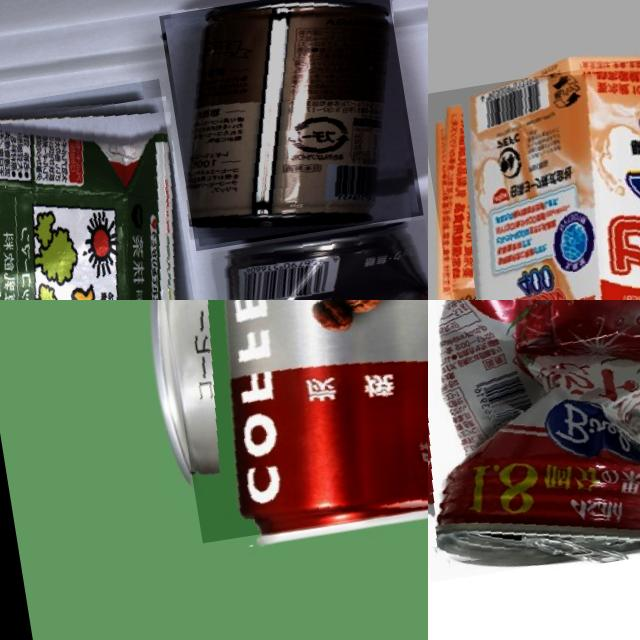Aluminium Foil: (428, 37, 640, 300), (0, 77, 214, 300)
Can: (150, 300, 428, 542), (159, 0, 423, 250), (428, 300, 640, 581), (211, 218, 428, 300)
